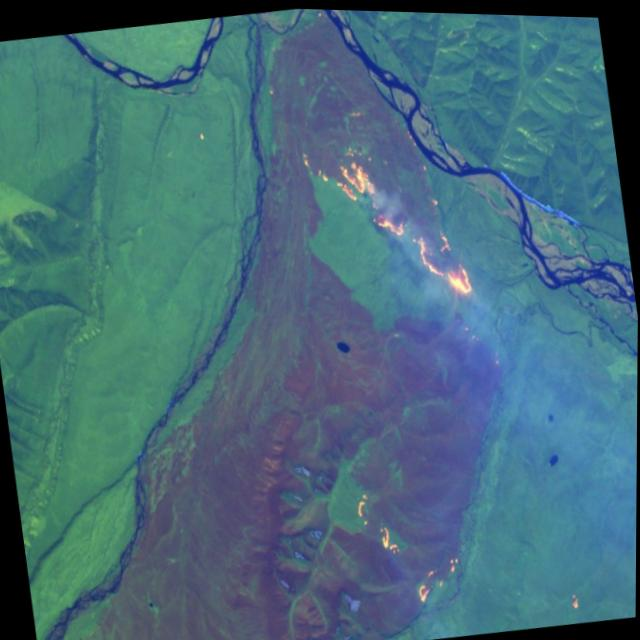fire: (296, 108, 480, 320), (352, 479, 469, 617)
